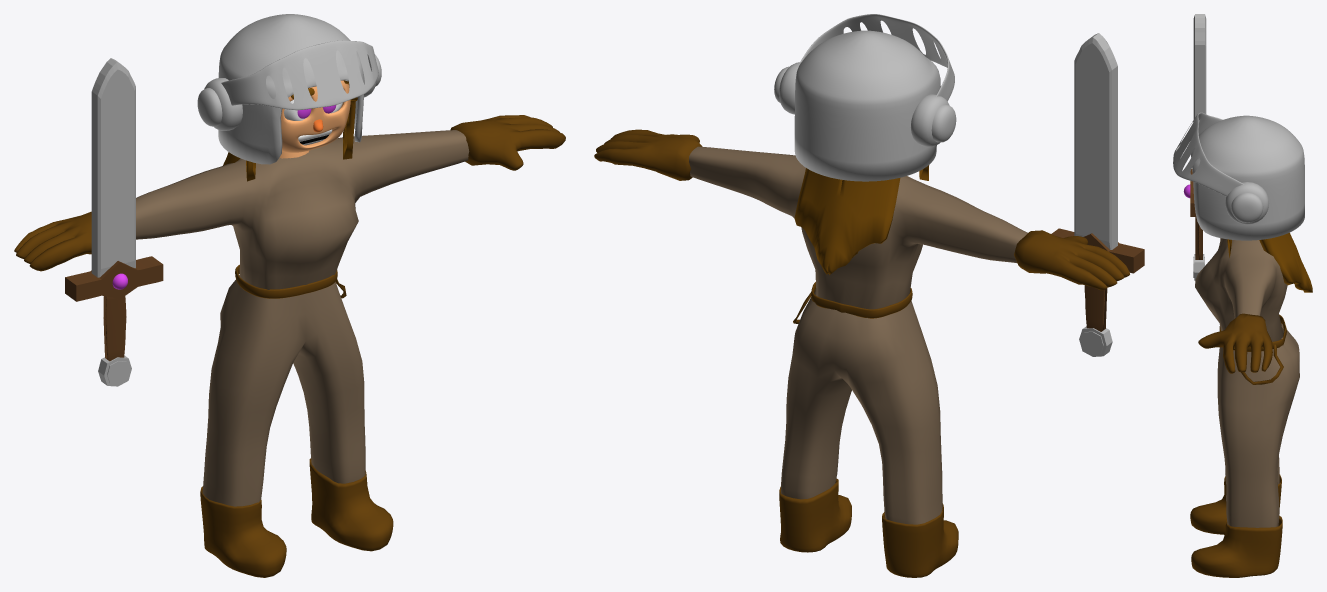
The model's file is Knightfemale.fbx.
3 views of the same model, side by side, from view 1: azimuth 30°, elevation 25°; view 2: azimuth 150°, elevation 25°; view 3: azimuth 270°, elevation 25° (orthographic). The views are drawn at different scales.
Visible parts, largest first — view 1: Cube.021, Cube.022, Cube.007, Cylinder, Cube.003, Cylinder.004, Cylinder.001, Cube.023, Cube.024, Cube.006, Cube.026, Cube.004 (+5 smaller); view 2: Cube.021, Cylinder, Cube.022, Cube.007, Cube.002, Cube.024, Cylinder.004, Cylinder.001, Cube.023, Cube.003, Cylinder.002, Cube (+4 smaller); view 3: Cube.021, Cylinder, Cube.022, Cylinder.001, Cube.023, Cube.003, Cube.002, Cube.007, Cylinder.004, Cylinder.003, Cylinder.002, Cube.004 (+2 smaller).
Part boxes in pixels (bbox=[...]): Cube.021: bbox=[202, 275, 365, 506]; Cube.022: bbox=[136, 130, 469, 289]; Cube.007: bbox=[91, 58, 135, 277]; Cylinder: bbox=[218, 14, 364, 164]; Cube.003: bbox=[221, 40, 378, 110]; Cylinder.004: bbox=[200, 486, 286, 577]; Cylinder.001: bbox=[309, 458, 393, 551]; Cube.023: bbox=[450, 115, 565, 170]; Cube.024: bbox=[14, 211, 91, 271]; Cube.006: bbox=[65, 256, 163, 301]; Cube.026: bbox=[281, 80, 350, 152]; Cube.004: bbox=[103, 296, 126, 361]; Cube.021: bbox=[781, 289, 942, 524]; Cylinder: bbox=[794, 30, 940, 181]; Cube.022: bbox=[689, 146, 1027, 309]; Cube.007: bbox=[1074, 33, 1117, 249]; Cube.002: bbox=[794, 165, 929, 274]; Cube.024: bbox=[1014, 230, 1129, 290]; Cylinder.004: bbox=[882, 503, 958, 577]; Cylinder.001: bbox=[779, 478, 851, 552]; Cube.023: bbox=[594, 129, 702, 180]; Cube.003: bbox=[800, 14, 954, 101]; Cylinder.002: bbox=[779, 62, 949, 146]; Cube: bbox=[811, 282, 912, 318]; Cube.021: bbox=[1217, 323, 1299, 527]; Cylinder: bbox=[1191, 115, 1304, 240]; Cube.022: bbox=[1195, 238, 1287, 341]; Cylinder.001: bbox=[1191, 515, 1282, 577]; Cube.023: bbox=[1198, 313, 1272, 373]; Cube.003: bbox=[1173, 112, 1243, 196]; Cube.002: bbox=[1227, 232, 1312, 292]; Cube.007: bbox=[1193, 14, 1206, 123]; Cylinder.004: bbox=[1190, 474, 1281, 534]; Cylinder.003: bbox=[1231, 193, 1263, 222]; Cylinder.002: bbox=[1225, 182, 1268, 224]; Cube.004: bbox=[1195, 217, 1202, 259].
Bounding box in the file's own units: 698 × 691 × 194.
